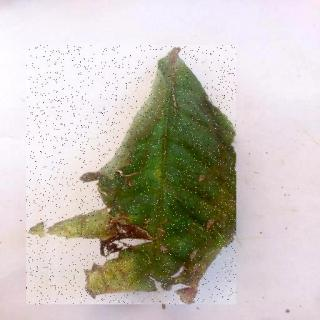Brown Blight: (28, 46, 238, 306)
